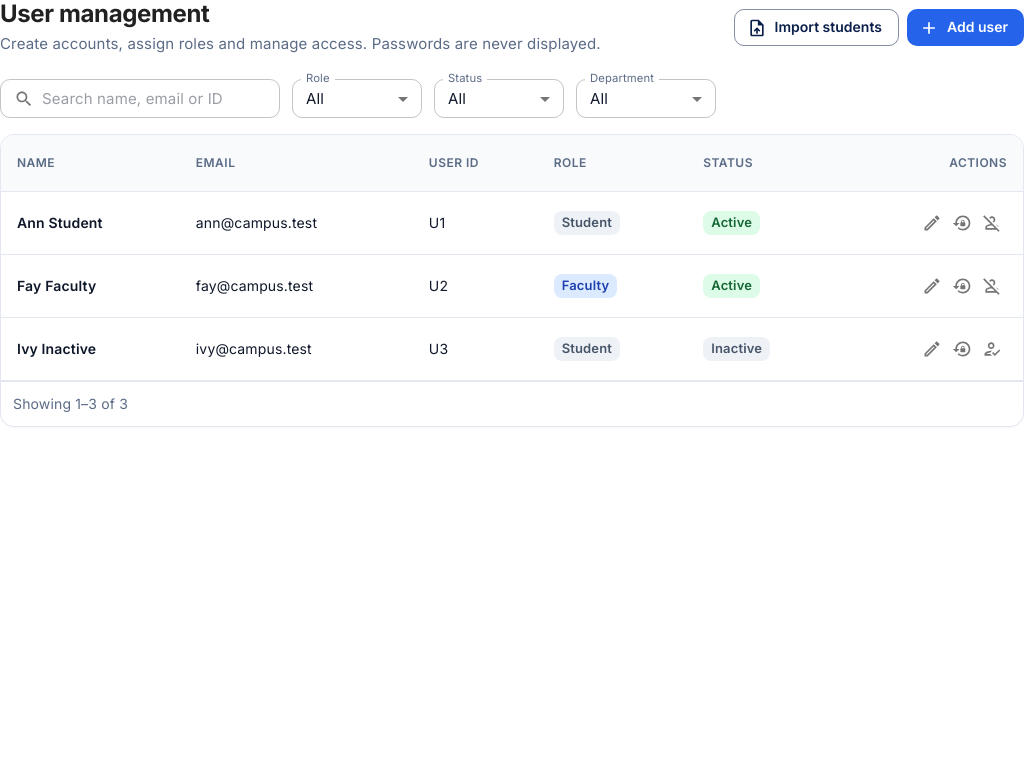
create / edit user dialog › editing pre-fills the form and sends the user id
This screenshot has width=1024, height=768.
Step 1. Click the button named "Edit Fay Faculty" → (932, 286), box left=917, top=271, right=947, bottom=301
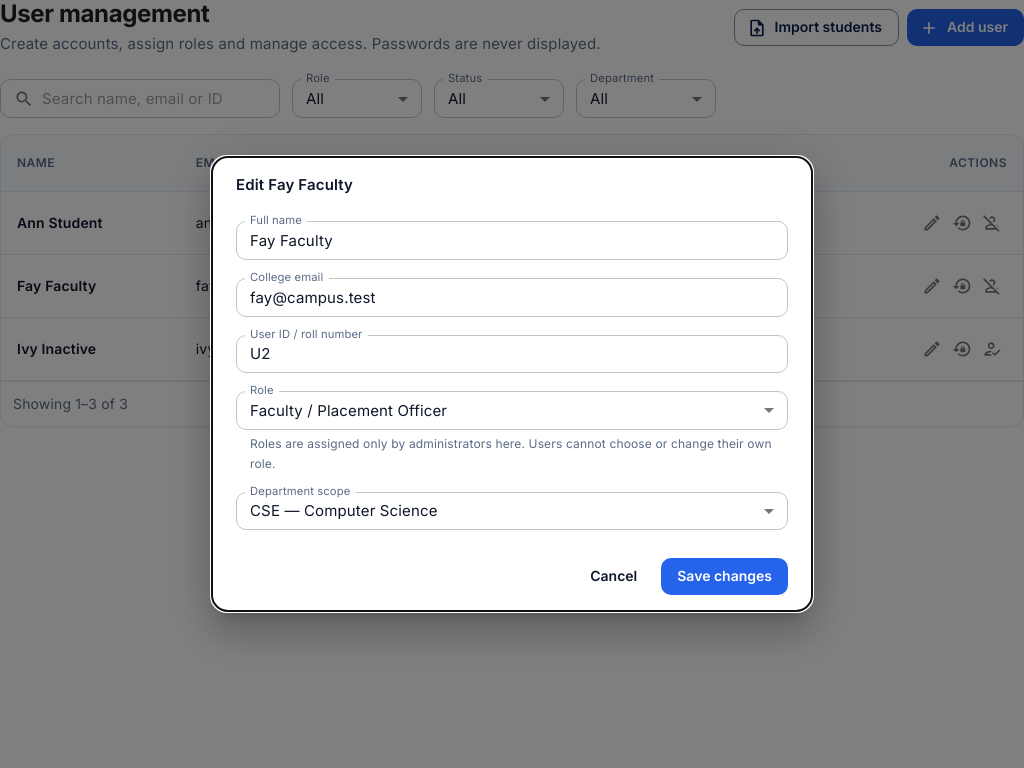
Expected: the field labelled "College email" holds "fay@campus.test", left=236, top=278, right=788, bottom=317
Step 2. Replace the text in the field labelled "Full name" with "Fay F. Faculty" → (512, 241), box left=236, top=221, right=788, bottom=260
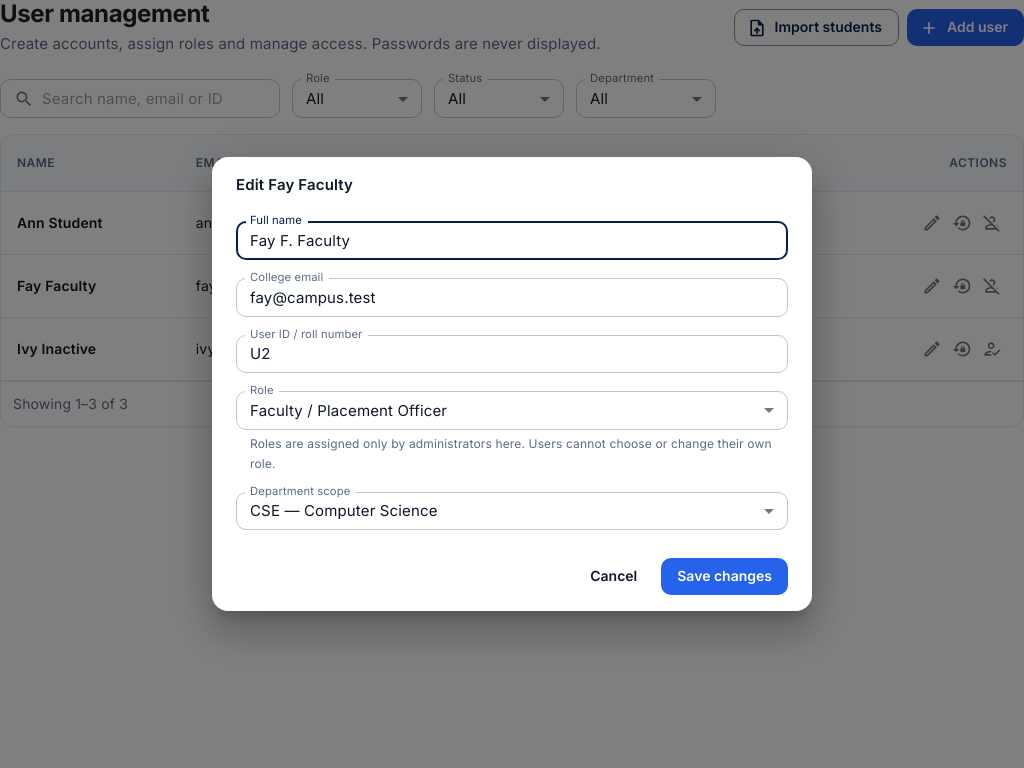
Step 3. Click the button "Save changes" → (725, 576), box left=661, top=558, right=788, bottom=595
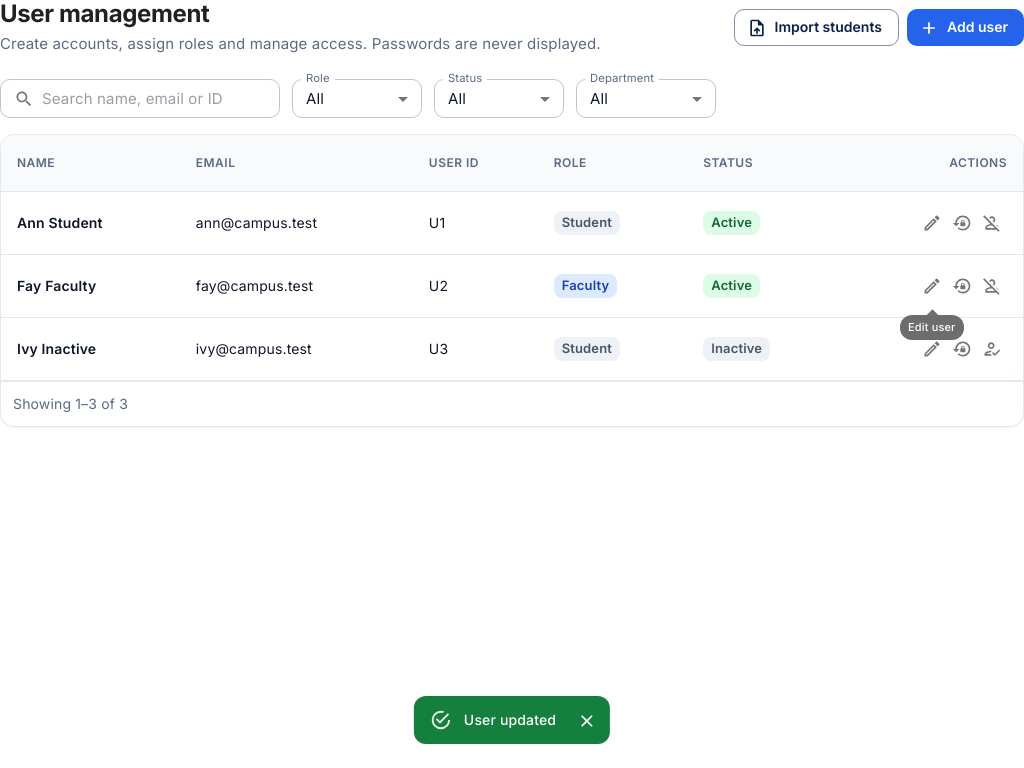
Expected: the text "User updated" is shown, left=464, top=711, right=556, bottom=728
